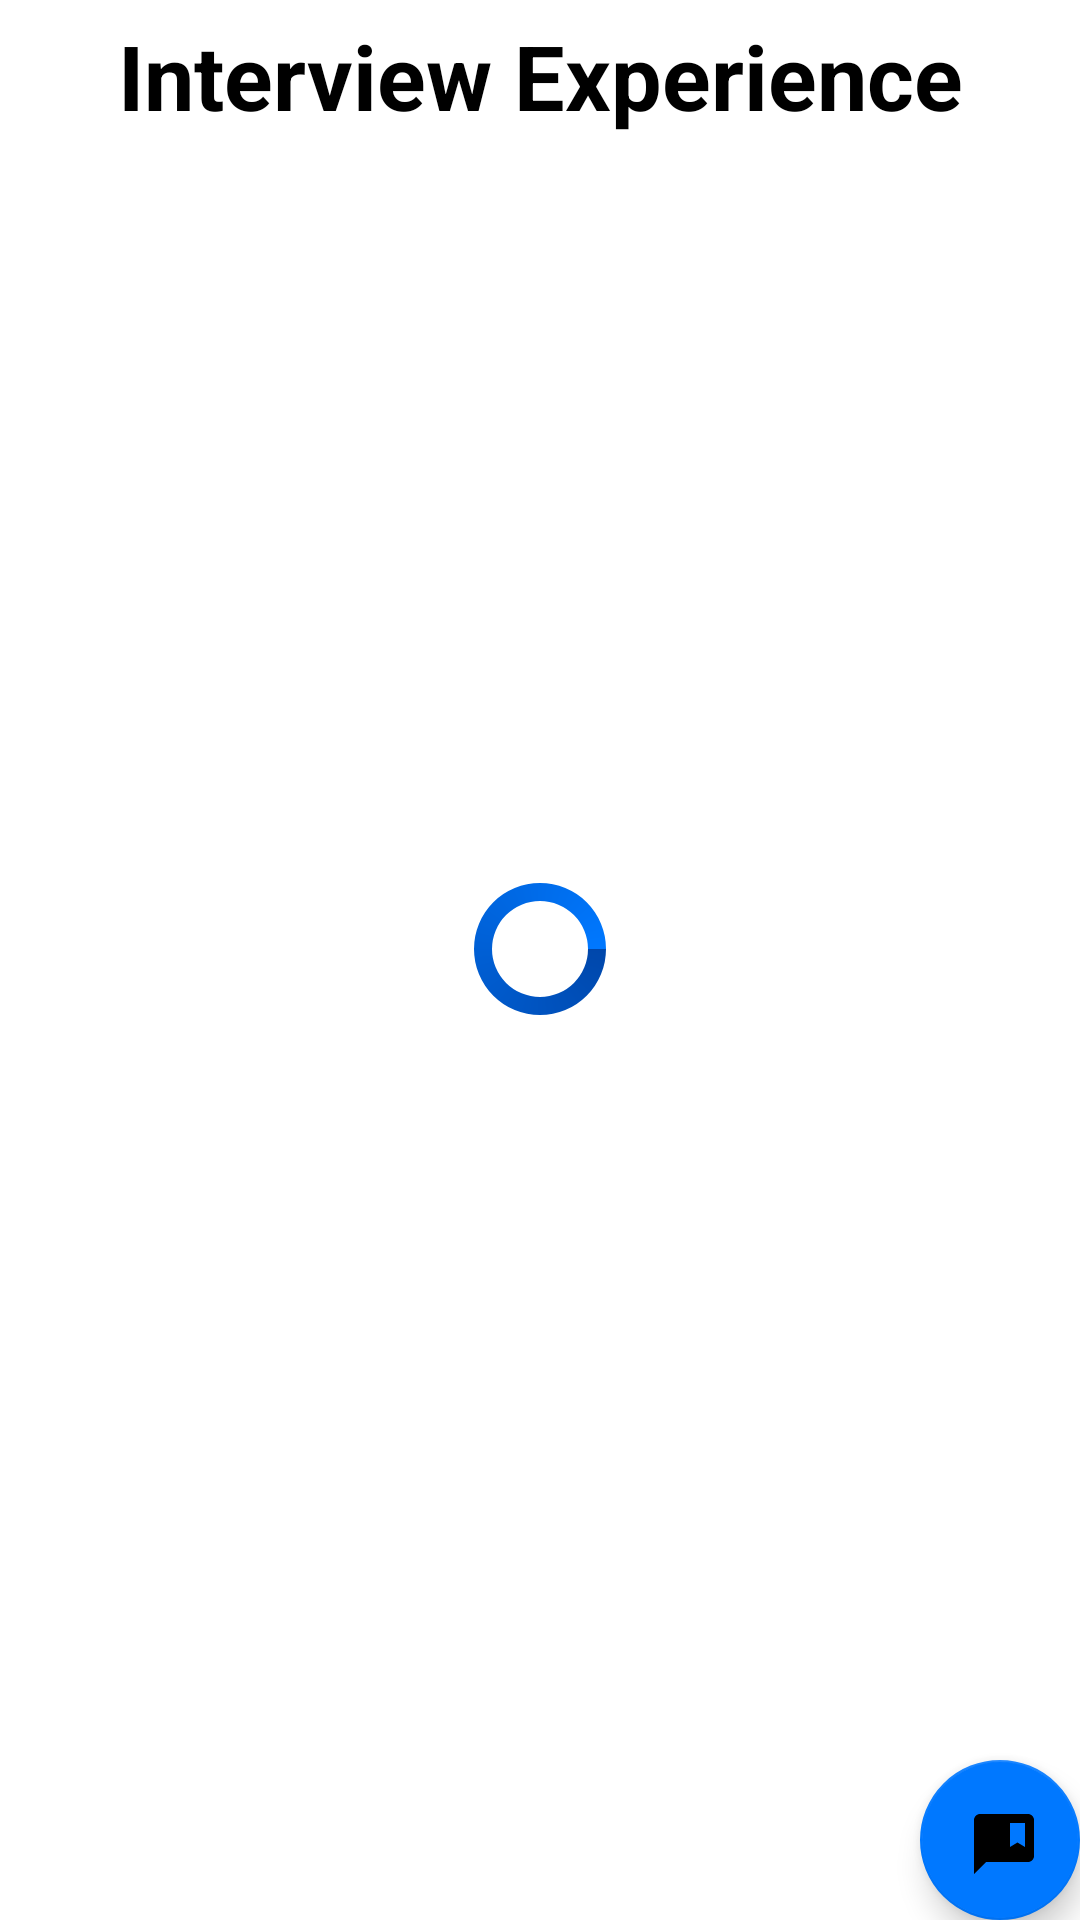

Named icons in this screenshot (1080 × 1920) and their centers, (x,y):
comment bank: (1000,1840)
